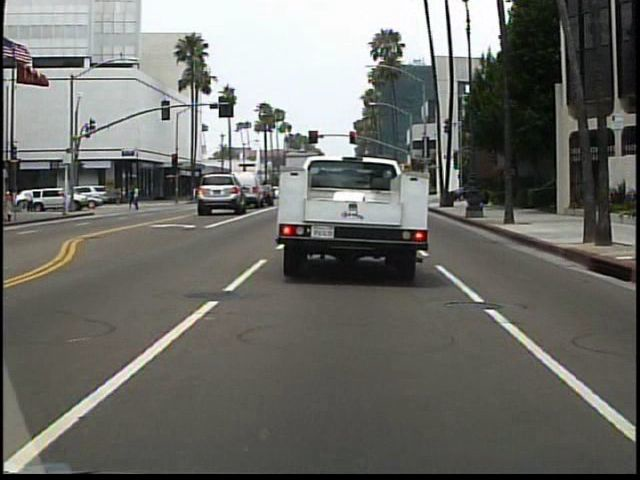person: (25, 186, 38, 214)
